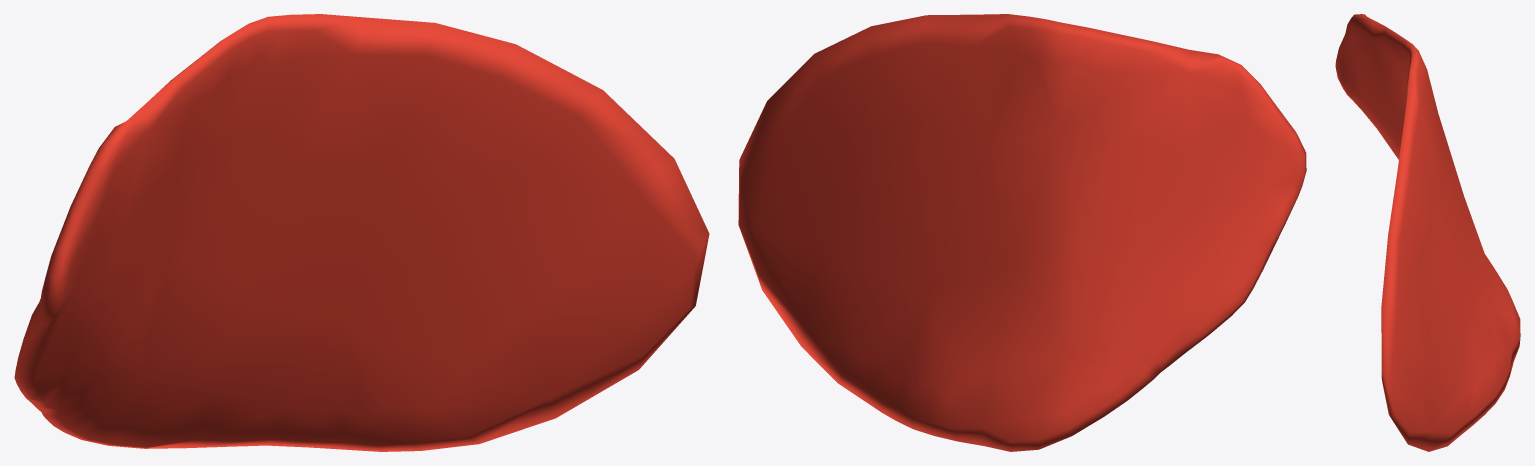
Rendered from Plantaris_lateral_gastrocnemius_origin_right.glb.
3 views of the same model, side by side, from view 1: azimuth 30°, elevation 25°; view 2: azimuth 150°, elevation 25°; view 3: azimuth 270°, elevation 25° (orthographic). The views are drawn at different scales.
Parts seen in each view (by area): view 1: Plantaris_muscle_medially_to_the_lateral_gastrocnemius_origi; view 2: Plantaris_muscle_medially_to_the_lateral_gastrocnemius_origi; view 3: Plantaris_muscle_medially_to_the_lateral_gastrocnemius_origi.
Part boxes in pixels (x1,y1,x2,y2): Plantaris_muscle_medially_to_the_lateral_gastrocnemius_origi: (14,14,709,451); Plantaris_muscle_medially_to_the_lateral_gastrocnemius_origi: (738,14,1306,451); Plantaris_muscle_medially_to_the_lateral_gastrocnemius_origi: (1335,14,1520,451).
Size of the model in its own units: 0.0167 by 0.0117 by 0.00605.
